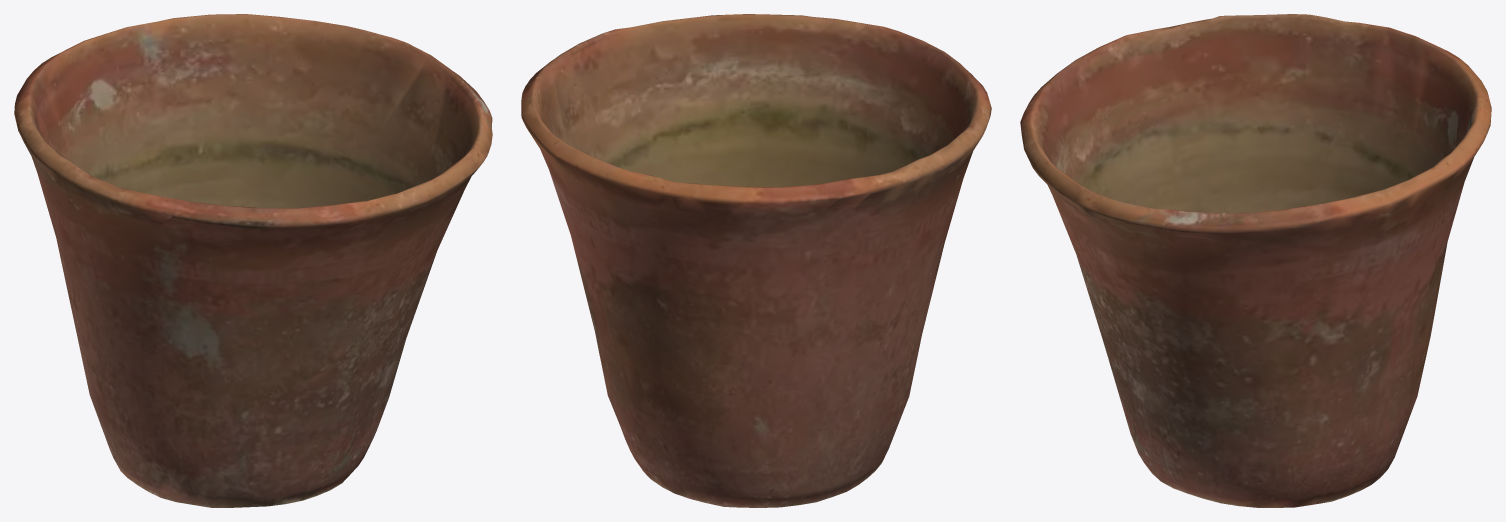
The model's file is clay_pot.glb.
3 renders of one model, left to right at view 1: azimuth 30°, elevation 25°; view 2: azimuth 150°, elevation 25°; view 3: azimuth 270°, elevation 25°, orthographic.
Visible parts, largest first — view 1: planter_pot_clay; view 2: planter_pot_clay; view 3: planter_pot_clay.
Part boxes in pixels (left/top/right/bottom): planter_pot_clay: left=14, top=14, right=492, bottom=507; planter_pot_clay: left=521, top=14, right=991, bottom=507; planter_pot_clay: left=1020, top=14, right=1491, bottom=507.
Bounding box in the file's own units: 0.266 × 0.2219 × 0.2635.
Materials: 1 (1 with a texture image).
